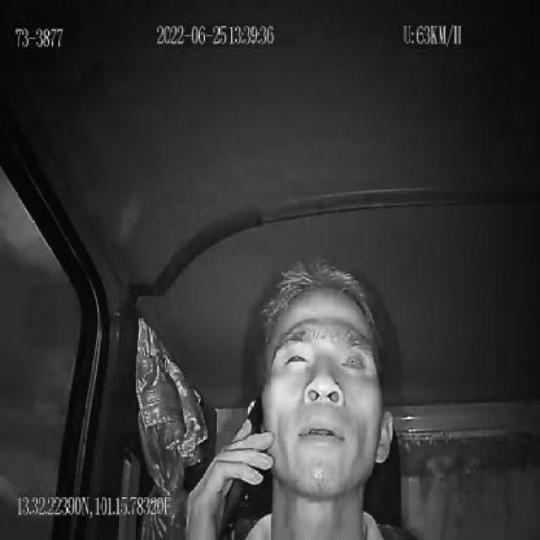phone: (218, 397, 264, 540)
